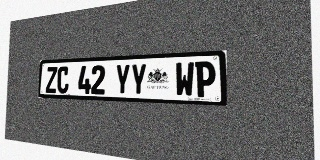2: (91, 65, 105, 94)
4: (78, 65, 91, 94)
C: (57, 66, 69, 93)
P: (195, 61, 216, 98)
W: (175, 62, 194, 97)
Y: (130, 63, 147, 96), (115, 64, 130, 95)
Z: (46, 67, 57, 93)
